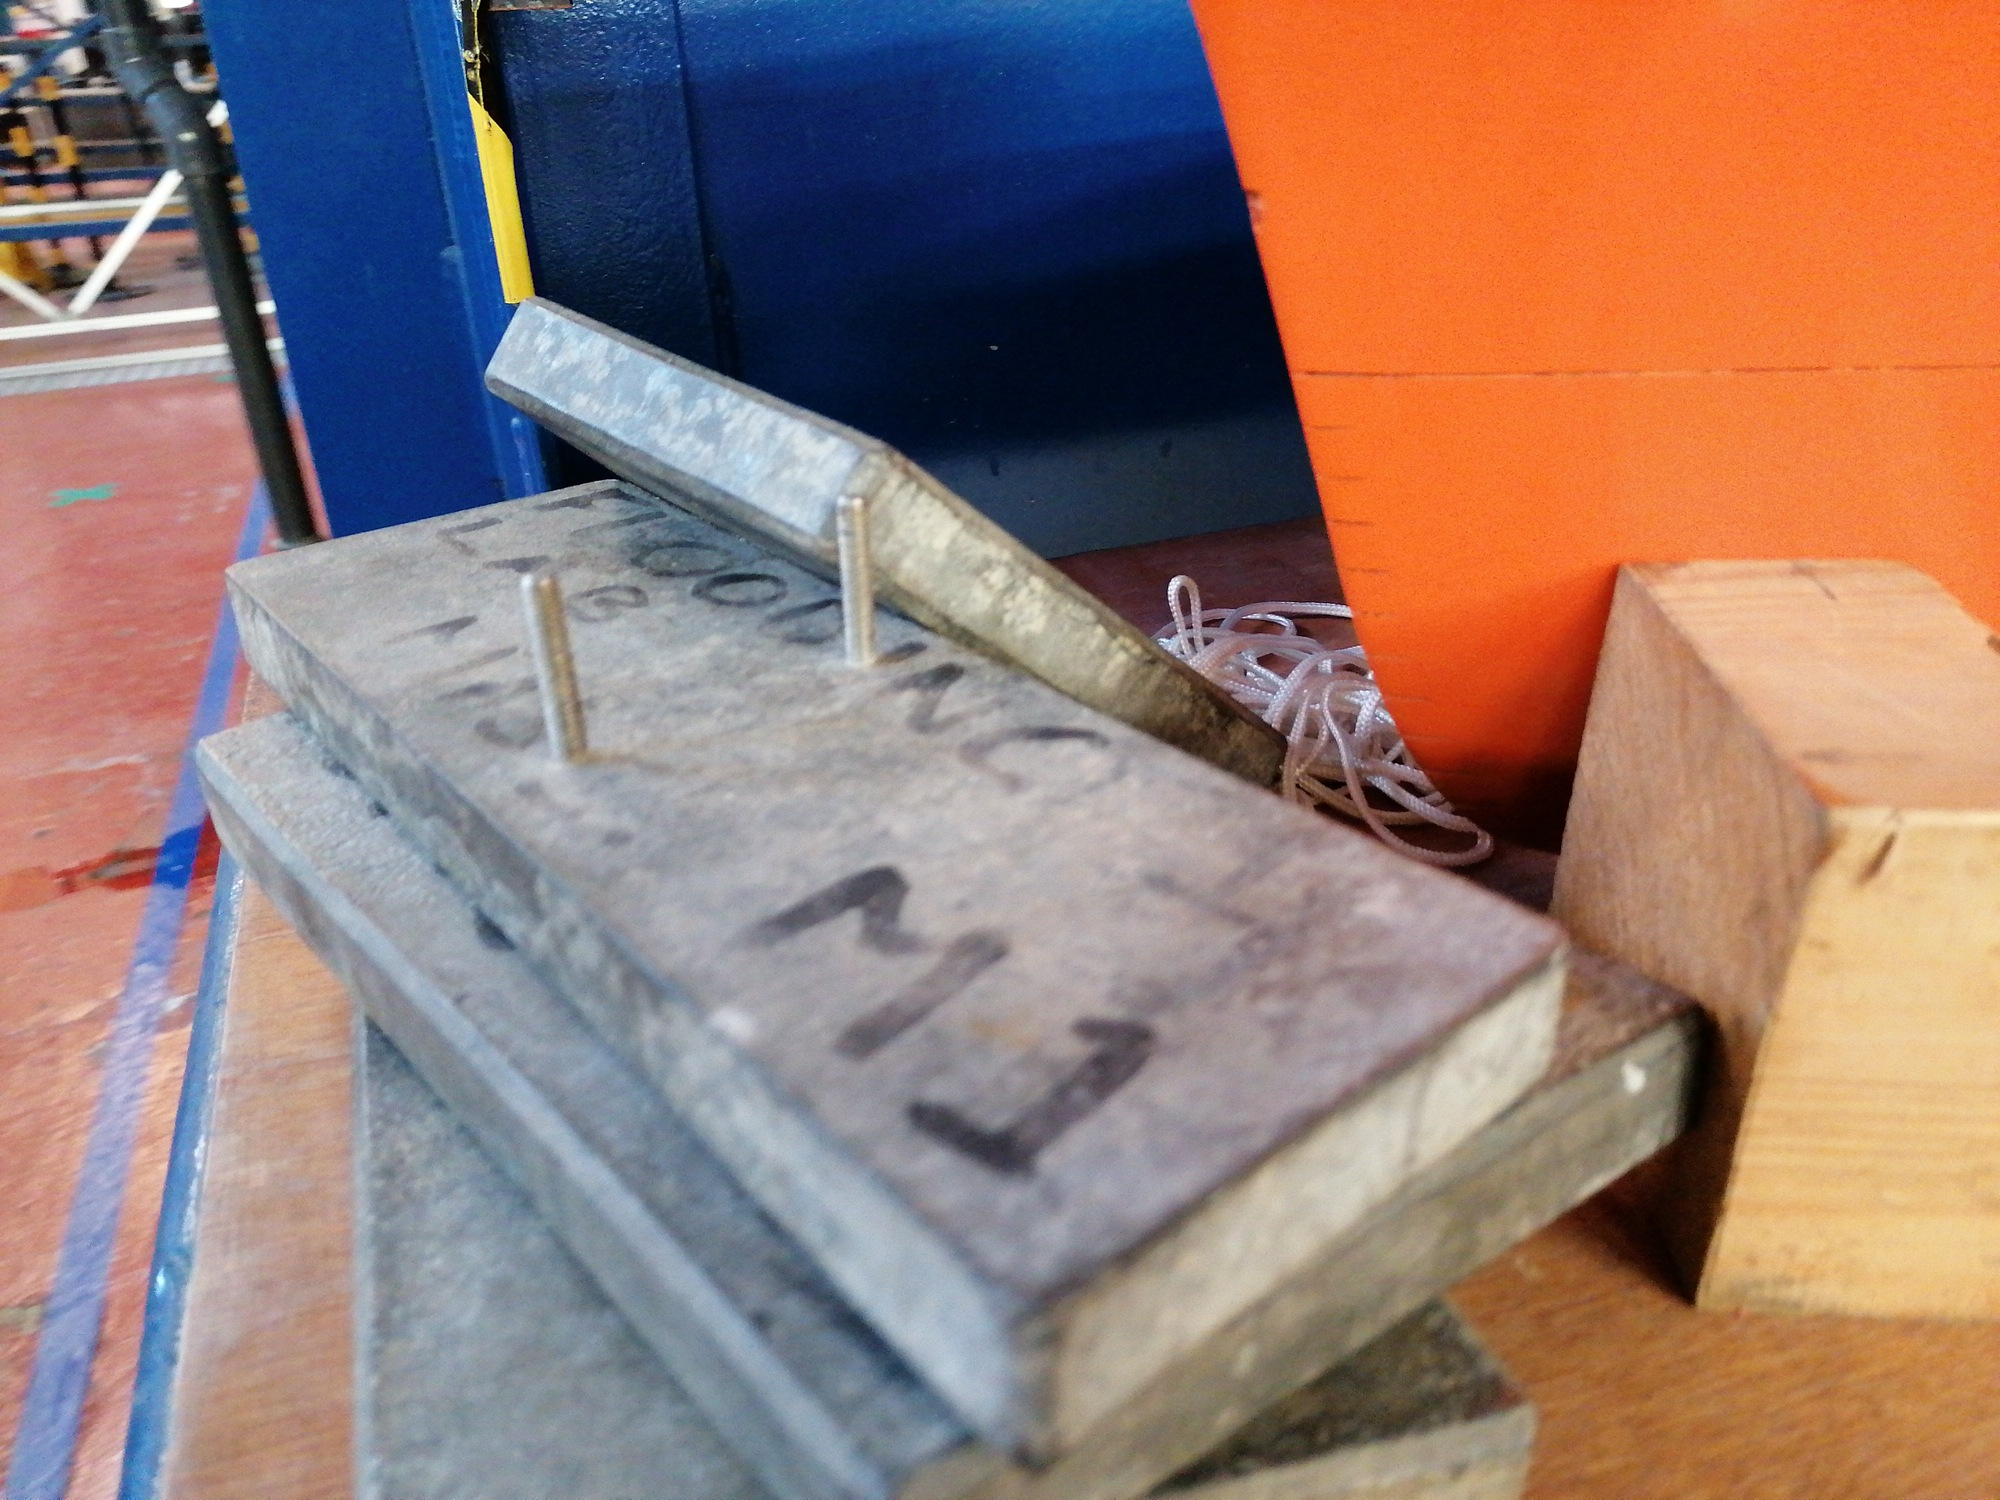lead-block: (227, 477, 1575, 1472), (195, 703, 1712, 1495), (482, 295, 1290, 800)
